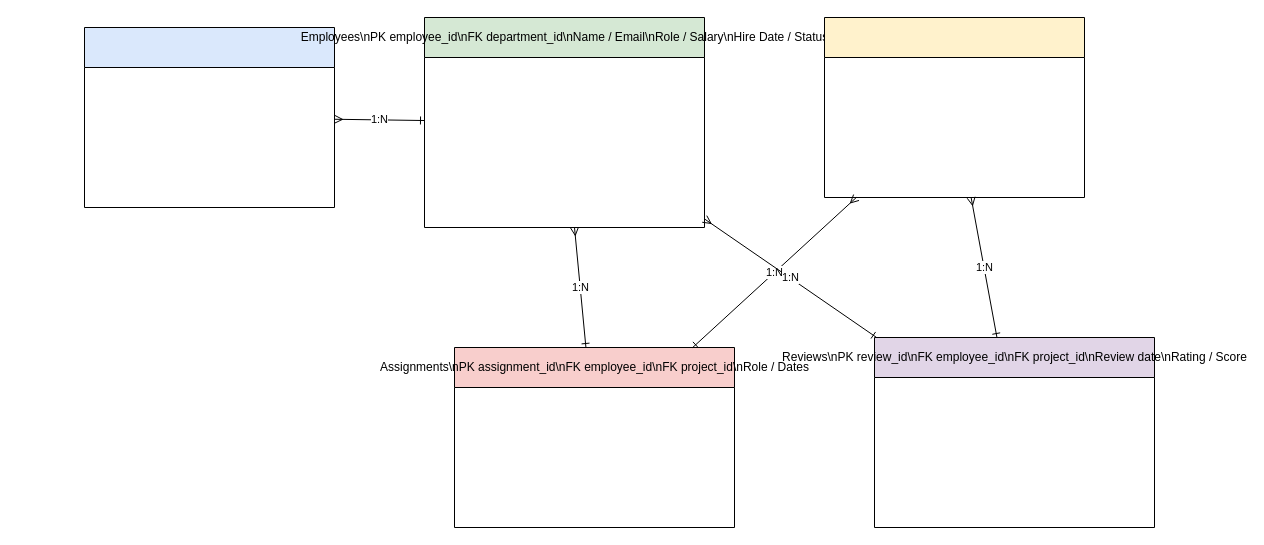
Image size: 1264x545. Some labels were removed from this diagram. The shapes that lost their labels are listed below. From the top down, each one's box as (x1, y1, x2, y2) in pixels, then its label:
(84, 26, 334, 208): Departments\nPK department_id\nDepartment name\nLocation\nBudget
(824, 16, 1084, 198): Projects\nPK project_id\nProject name\nStart / End\nStatus
